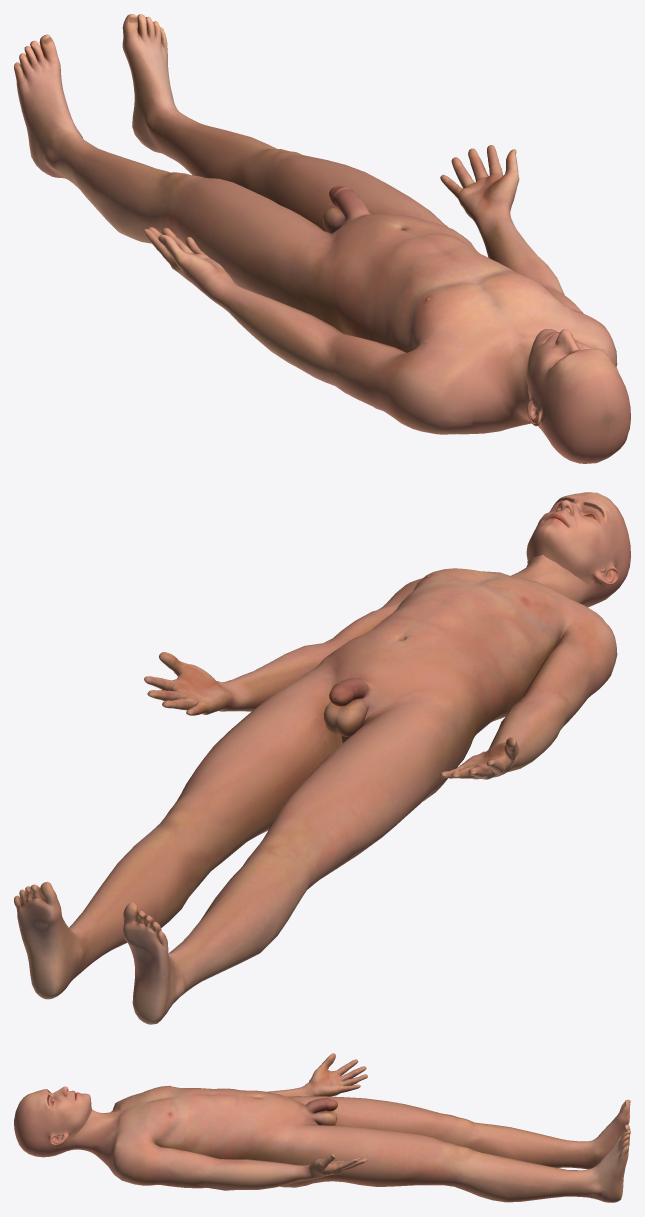
The model's file is skin_man.FBX.
3 renders of one model, top to bottom at view 1: azimuth 30°, elevation 25°; view 2: azimuth 150°, elevation 25°; view 3: azimuth 270°, elevation 25°, orthographic. The views are drawn at different scales.
Parts seen in each view (by area): view 1: 皮肤男; view 2: 皮肤男; view 3: 皮肤男.
Boxes of the visible parts, x1,y1,x2,y2 form: 皮肤男: (14,14,630,463); 皮肤男: (14,492,630,1024); 皮肤男: (14,1053,630,1202).
Size of the model in its own units: 789 by 360 by 2001.
